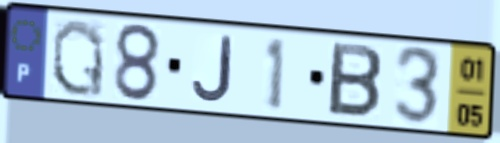1: (262, 35, 288, 114)
3: (392, 42, 444, 129)
8: (110, 21, 163, 104)
B: (324, 39, 385, 122)
J: (189, 33, 236, 105)
Q: (49, 16, 106, 100)
